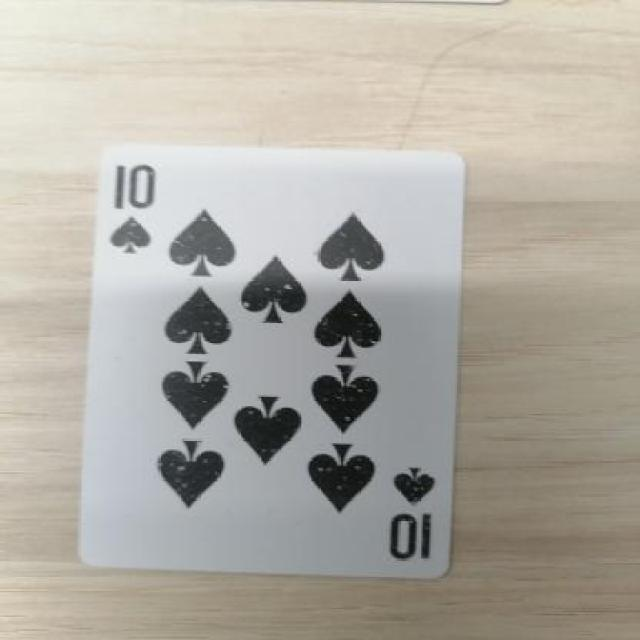10S: (84, 162, 171, 270), (383, 448, 442, 570)
